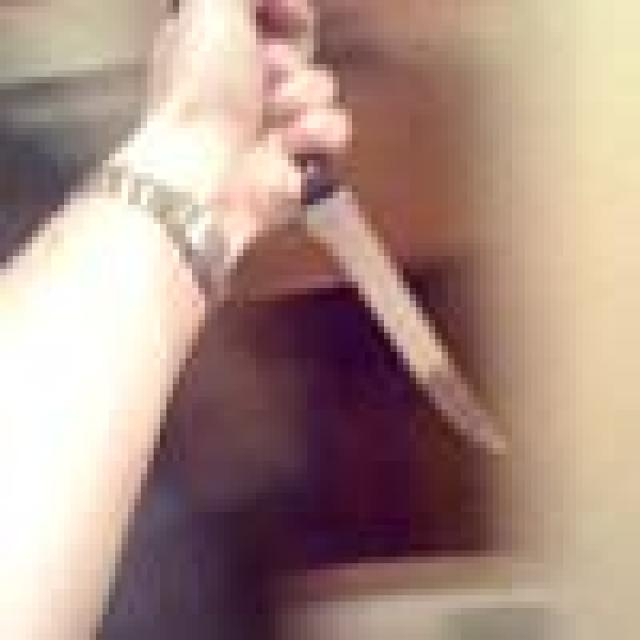knife: (303, 165, 505, 459)
